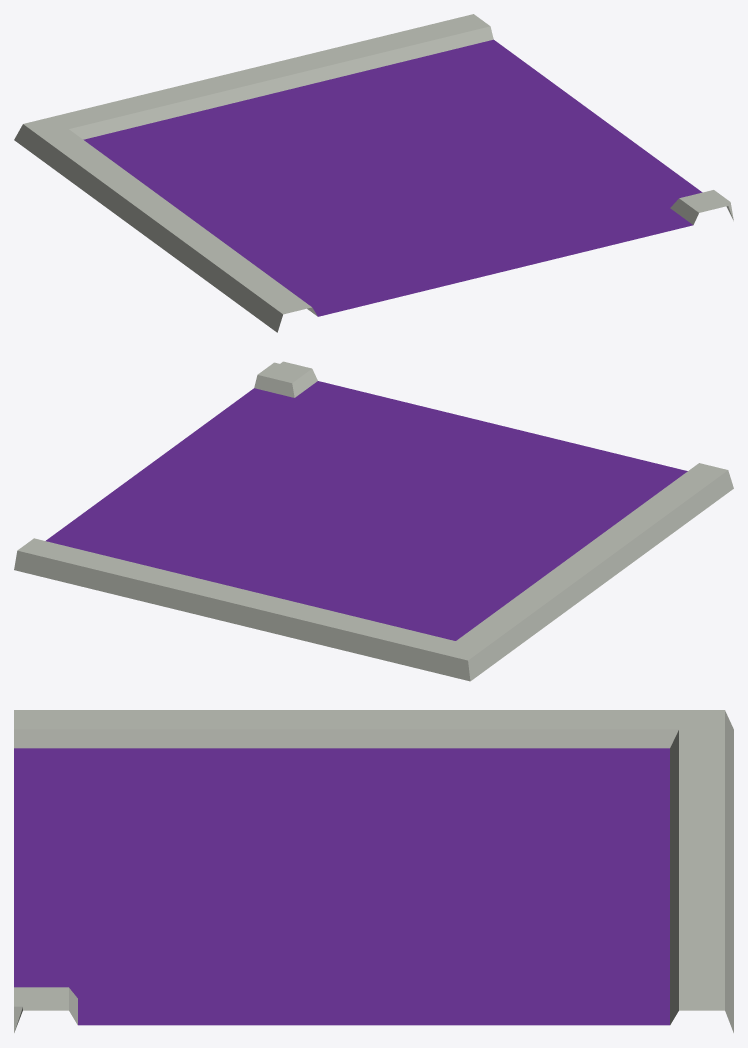
The model's file is ParkRoad_3_A.glb.
3 views of the same model, one above another, from view 1: azimuth 30°, elevation 25°; view 2: azimuth 150°, elevation 25°; view 3: azimuth 270°, elevation 25° (orthographic). The views are drawn at different scales.
Visible parts, largest first — view 1: ParkRoad_3_A; view 2: ParkRoad_3_A; view 3: ParkRoad_3_A.
Part boxes in pixels (x1,y1,x2,y2): ParkRoad_3_A: (14,14,733,332); ParkRoad_3_A: (14,361,733,681); ParkRoad_3_A: (14,710,733,1032).
Size of the model in its own units: 2 by 0.0716 by 2.
1 material, 1 textured.
